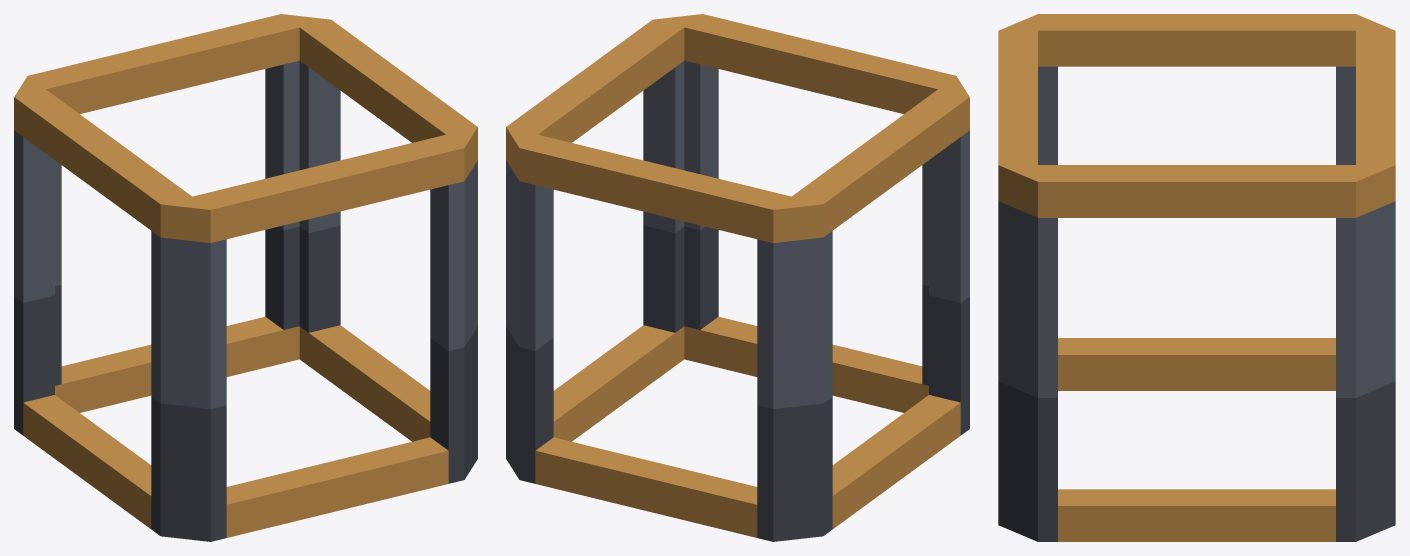
File: station_frame.glb
3 renders of one model, left to right at view 1: azimuth 30°, elevation 25°; view 2: azimuth 150°, elevation 25°; view 3: azimuth 270°, elevation 25°, orthographic. The views are drawn at different scales.
Parts seen in each view (by area): view 1: body; view 2: body; view 3: body.
Boxes of the visible parts, x1,y1,x2,y2 form: body: [14, 14, 477, 541]; body: [506, 14, 969, 541]; body: [998, 14, 1395, 541].
Size of the model in its own units: 1 by 1 by 1.
